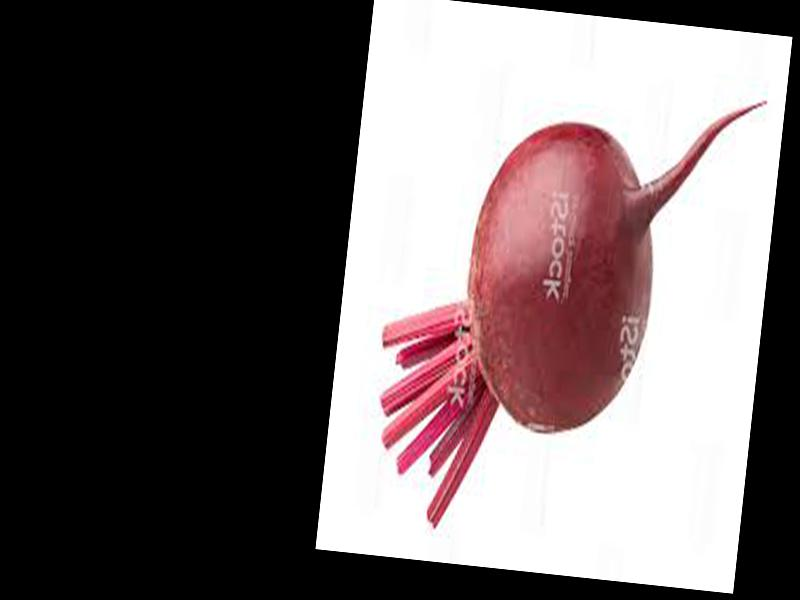Beet: (362, 60, 761, 555)
